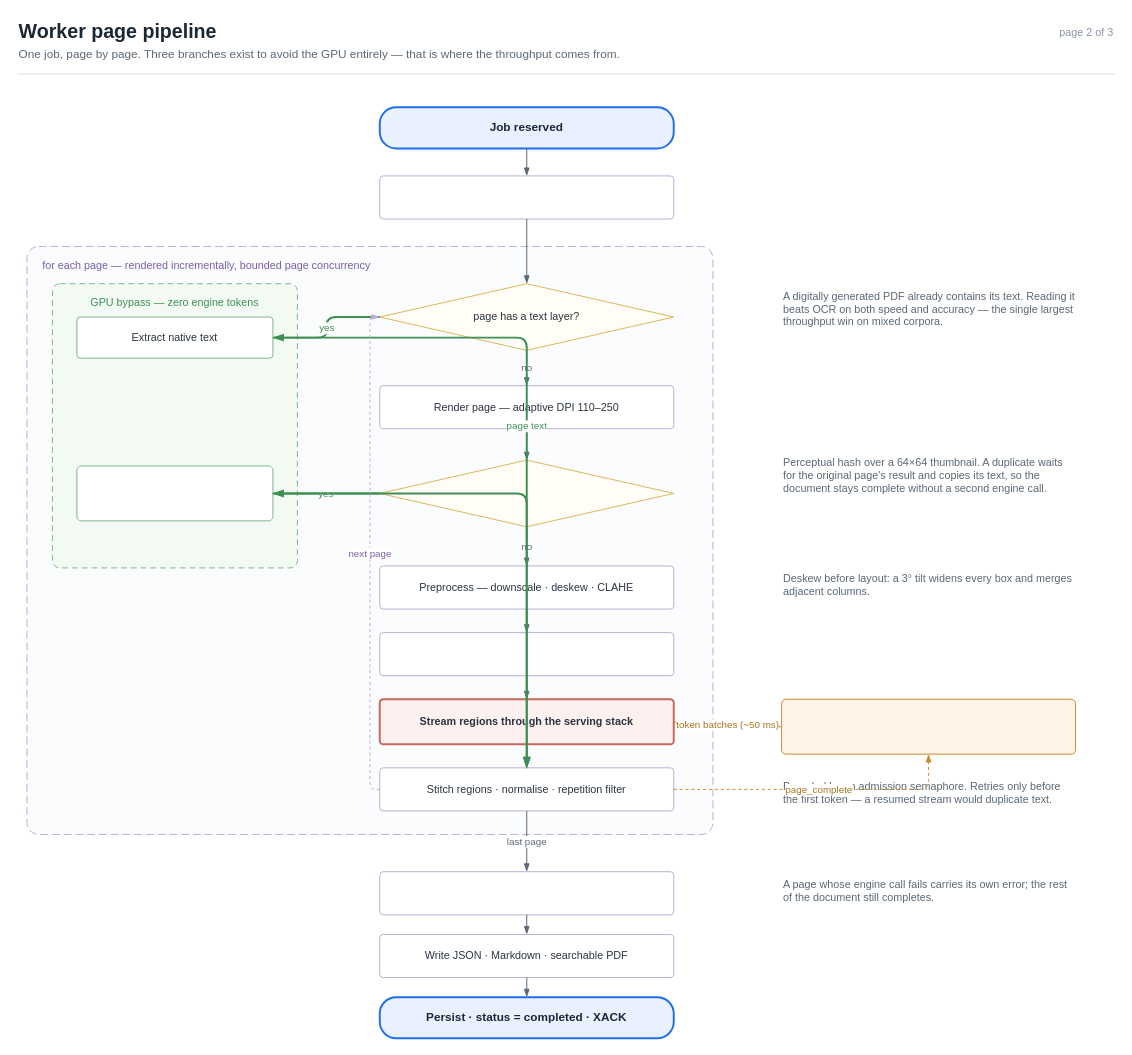
Some shapes in this 1132 by 1055 pixel diagram are drawn without their labels. Here are the shapes that lost their labels. From the top down, the box of each, then its label:
(379, 175, 674, 219): Open document — metadata, corrupt / encrypted guard
(76, 465, 273, 521): Mark blank, or copy the original page's text
(379, 459, 674, 527): blank page or duplicate hash?
(379, 632, 674, 676): Layout — regions · tiles · reading order
(781, 698, 1076, 754): Event stream page_started · token · page_complete · progress
(379, 871, 674, 915): Merge pages — repair hyphenation across breaks
